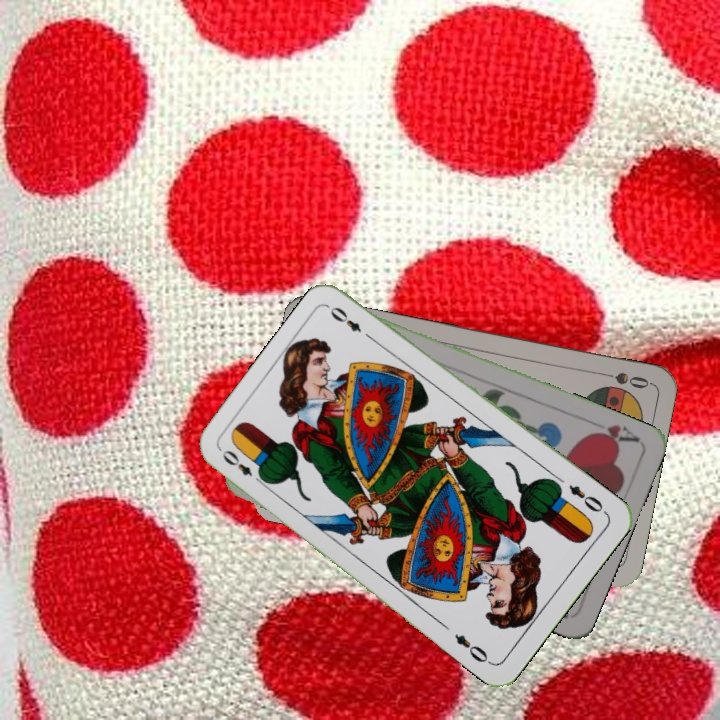EO: (217, 445, 268, 489), (564, 480, 606, 515)
HA: (584, 420, 643, 448)
SO: (593, 367, 652, 391)
